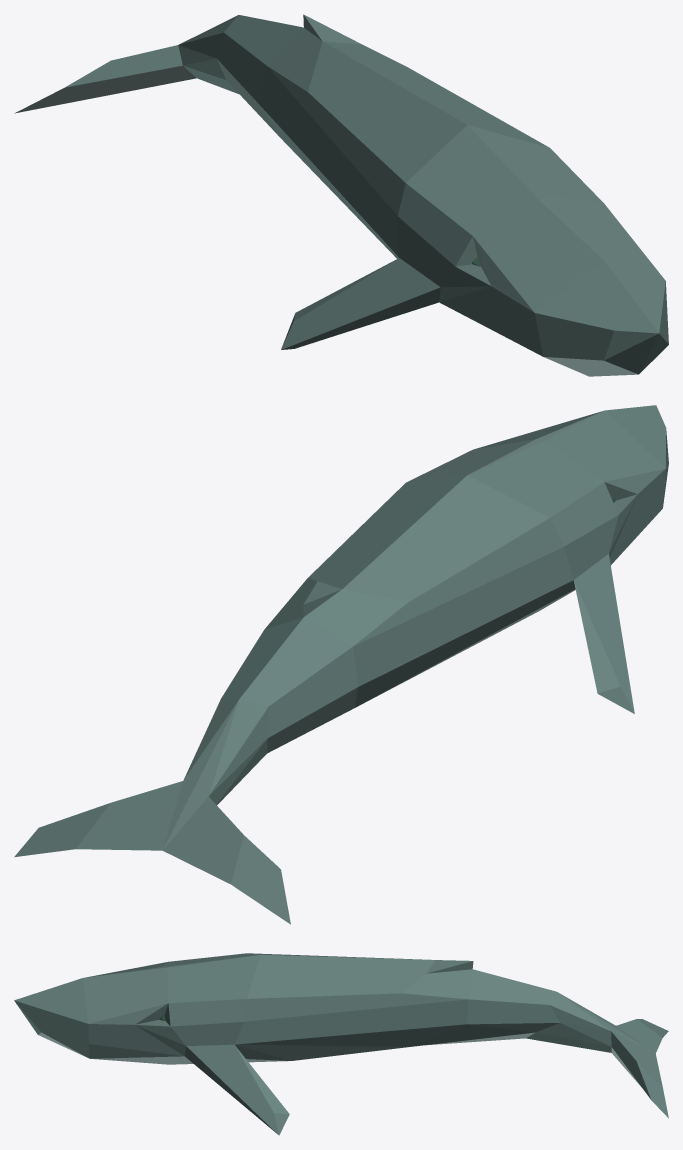
The model's file is RW_HG_Animal_Whale.001.fbx.
The picture shows the model from 3 angles, top to bottom: view 1: azimuth 30°, elevation 25°; view 2: azimuth 150°, elevation 25°; view 3: azimuth 270°, elevation 25°; orthographic projection. The views are drawn at different scales.
Visible parts, largest first — view 1: RW_HG_Animal_Whale.001; view 2: RW_HG_Animal_Whale.001; view 3: RW_HG_Animal_Whale.001.
Part boxes in pixels (bbox=[...]): RW_HG_Animal_Whale.001: bbox=[14, 14, 668, 376]; RW_HG_Animal_Whale.001: bbox=[14, 405, 668, 924]; RW_HG_Animal_Whale.001: bbox=[14, 953, 668, 1135].
Bounding box in the file's own units: 1.68 × 0.8746 × 4.16.
